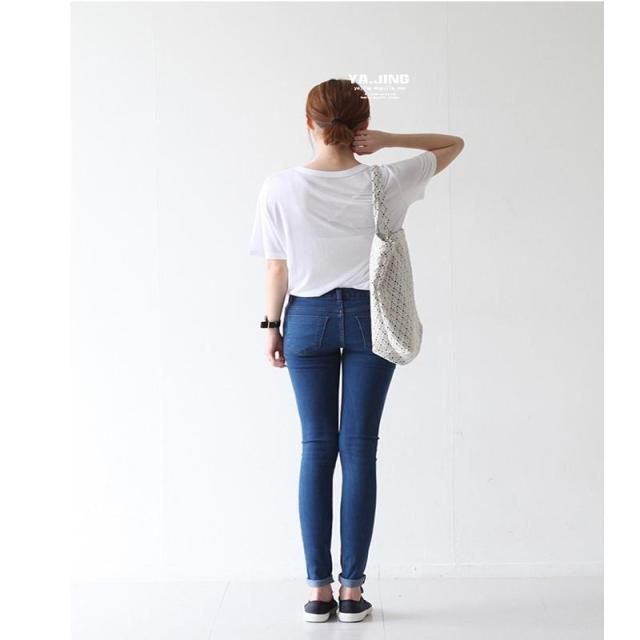short sleeve top: (251, 153, 430, 292)
trousers: (287, 284, 393, 585)
